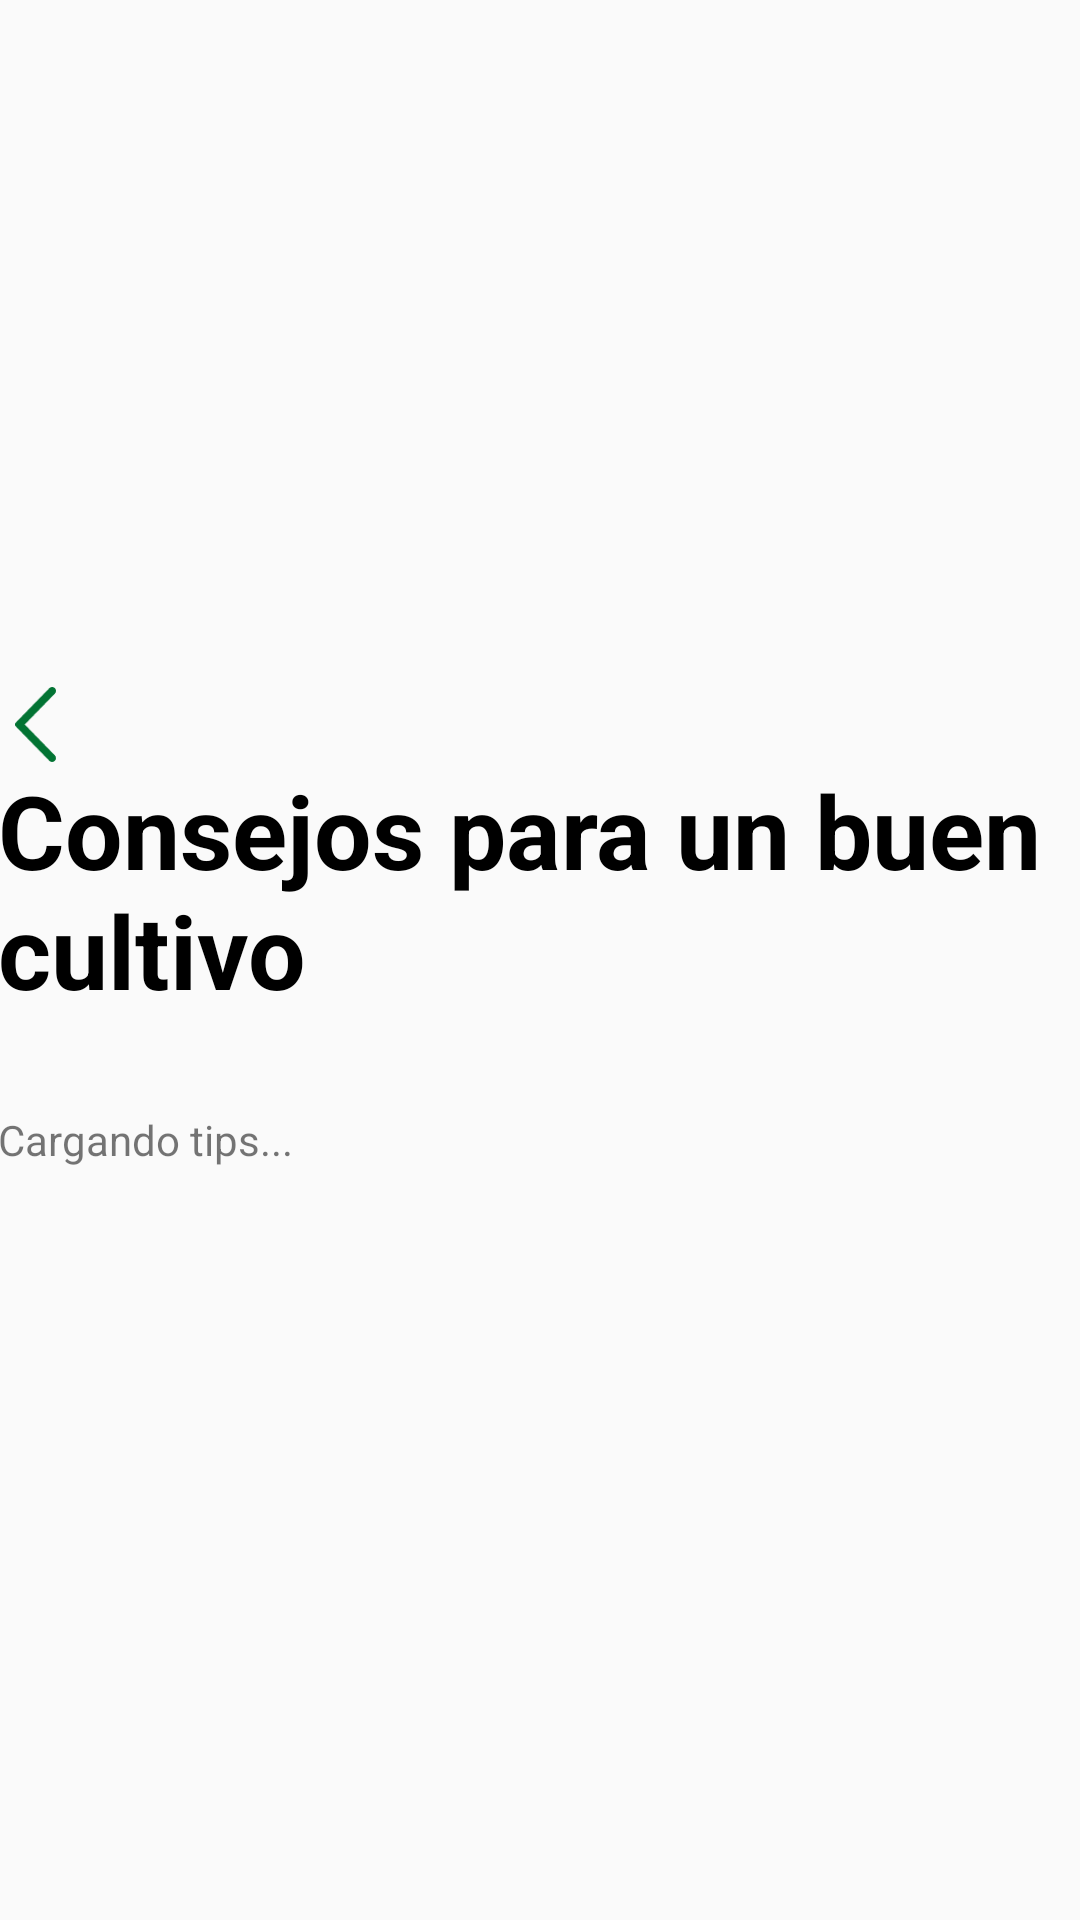

Icon bounding boxes for this 1080px×1920px phone screenshot, format (left=x1, top=y1, right=x2, bottom=y2):
volver: (left=15, top=687, right=56, bottom=762)
